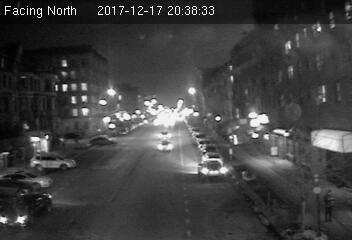car: (196, 159, 226, 180), (156, 138, 174, 154)
